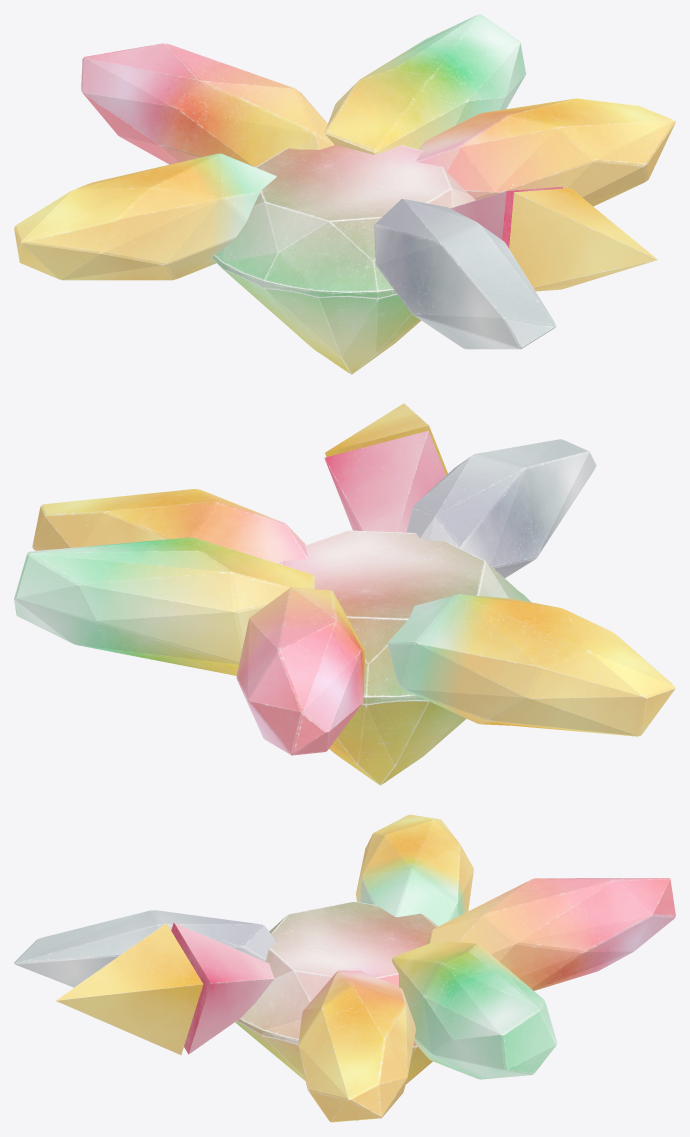
3 views of the same model, one above another, from view 1: azimuth 30°, elevation 25°; view 2: azimuth 150°, elevation 25°; view 3: azimuth 270°, elevation 25° (orthographic). The views are drawn at different scales.
Parts seen in each view (by area): view 1: K, E, C, D, B, F, I; view 2: E, F, K, C, B, D, I; view 3: C, I, F, K, D, E, B.
Boxes of the visible parts, box(x1,y1,x2,y2) form: K: box(212, 145, 475, 374); E: box(14, 153, 276, 280); C: box(81, 43, 334, 166); D: box(415, 98, 675, 206); B: box(374, 199, 556, 349); F: box(324, 14, 525, 154); I: box(450, 187, 657, 291); E: box(388, 594, 675, 736); F: box(14, 537, 315, 675); K: box(279, 530, 531, 785); C: box(236, 587, 364, 755); B: box(406, 439, 596, 577); D: box(32, 489, 308, 563); I: box(324, 403, 447, 532); C: box(426, 878, 675, 990); I: box(55, 922, 274, 1054); F: box(391, 940, 556, 1079); K: box(235, 901, 437, 1121); D: box(298, 970, 415, 1122); E: box(356, 814, 473, 926); B: box(14, 910, 276, 987).
Size of what is drawn, in the model's own units: 11.46 by 4.3 by 11.49.
Materials: 10 (10 with a texture image).
